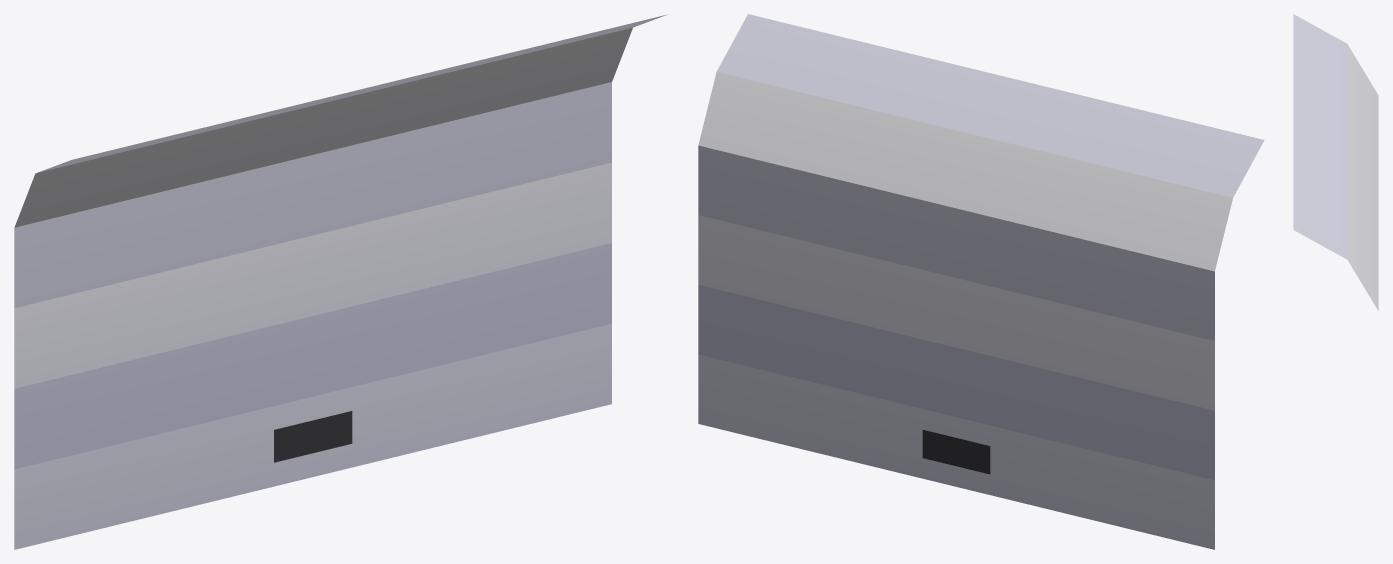
File: door-wide-half.obj
3 renders of one model, left to right at view 1: azimuth 30°, elevation 25°; view 2: azimuth 150°, elevation 25°; view 3: azimuth 270°, elevation 25°, orthographic. The views are drawn at different scales.
Visible parts, largest first — view 1: door-wide-half; view 2: door-wide-half; view 3: door-wide-half.
Boxes of the visible parts, left/top/right/bottom form: door-wide-half: left=14, top=14, right=667, bottom=549; door-wide-half: left=698, top=14, right=1264, bottom=549; door-wide-half: left=1293, top=14, right=1378, bottom=310.
Bounding box in the file's own units: 1.8 × 1.24 × 0.3.
